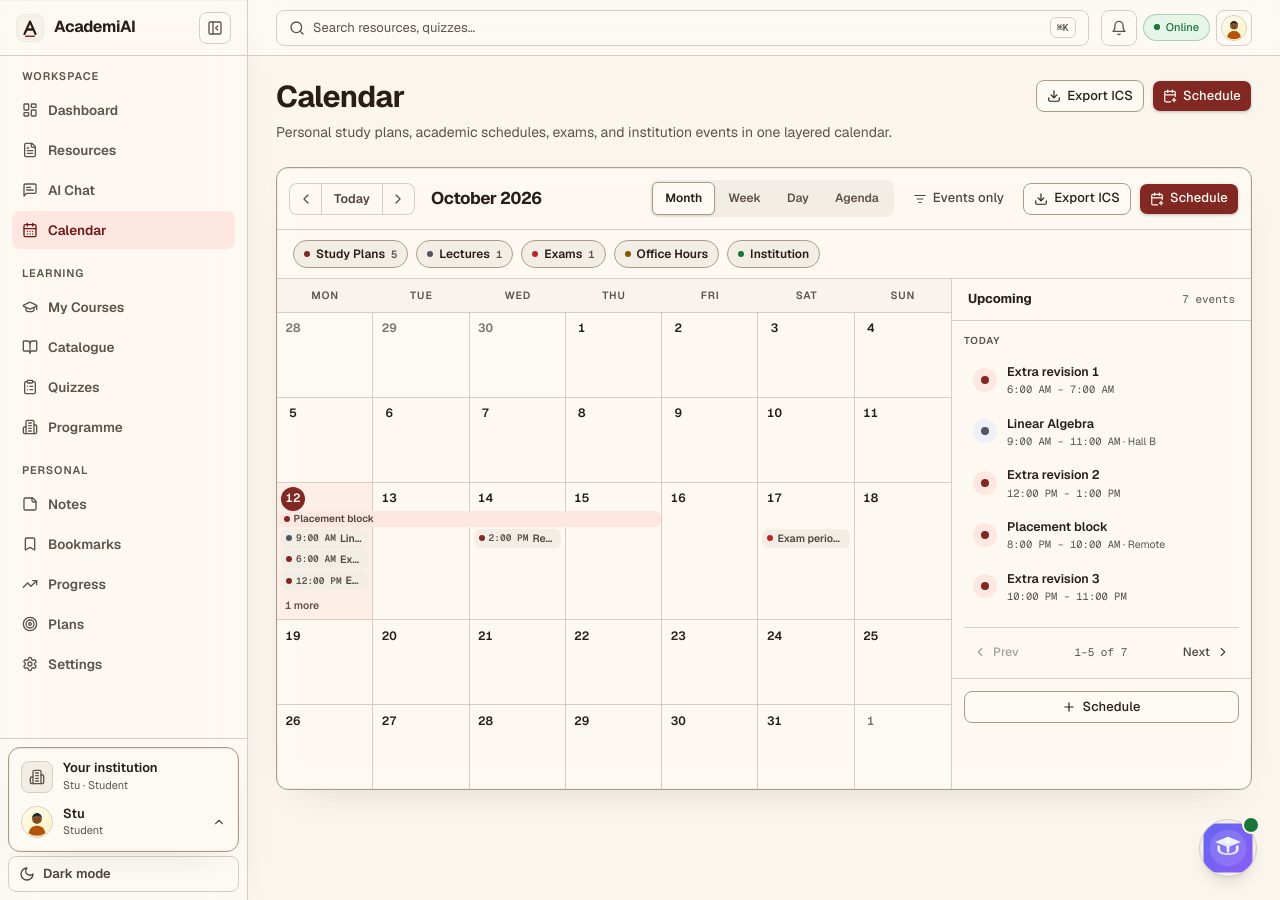
Test: calendar views › hides events when their layer is toggled off
Check: the text "Linear Algebra" below "13" is shown, box [340, 531, 413, 545]
Click the switch labelled "Lectures 1" at (465, 254), box [416, 240, 513, 268]
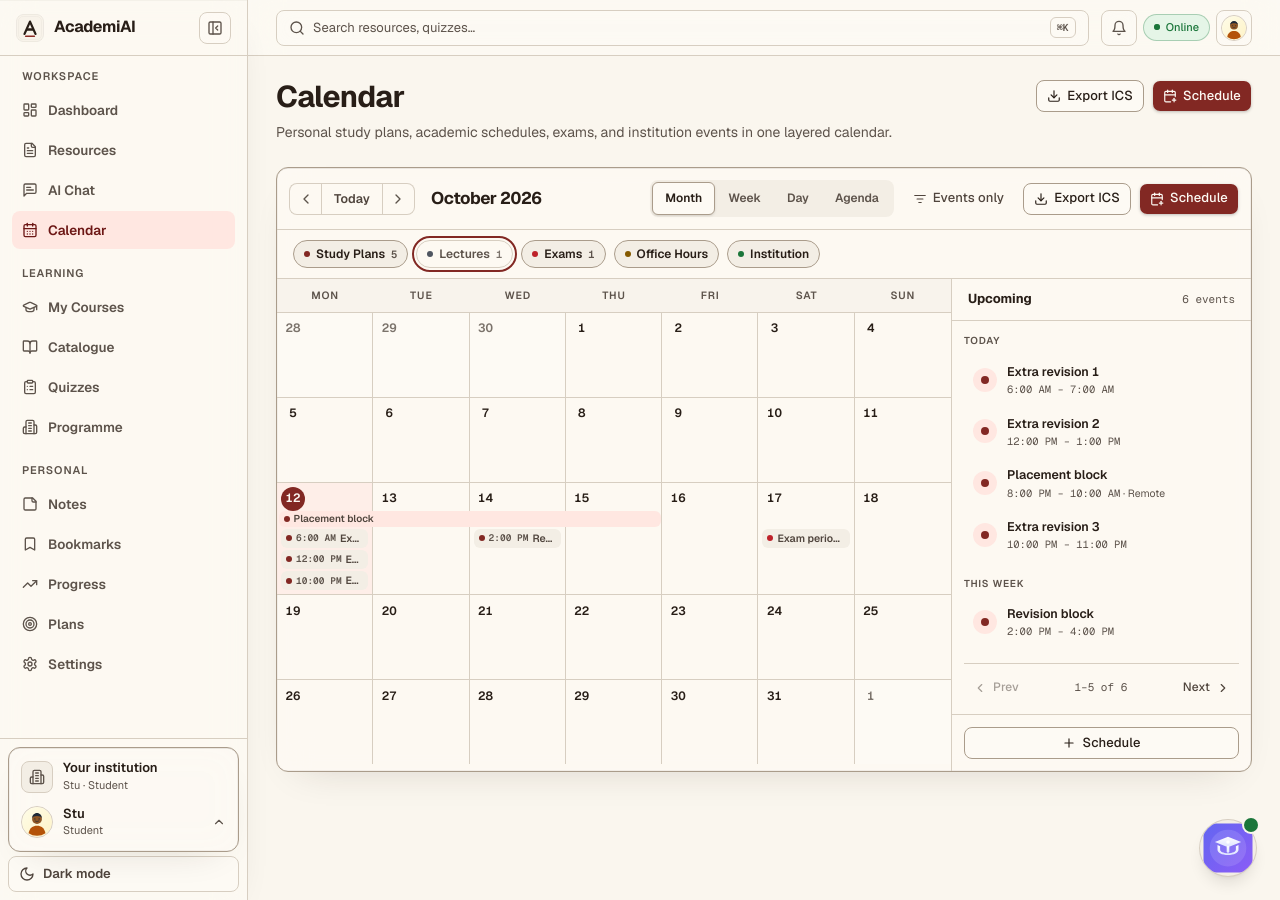
Check: the button "Linear Algebra" is gone
